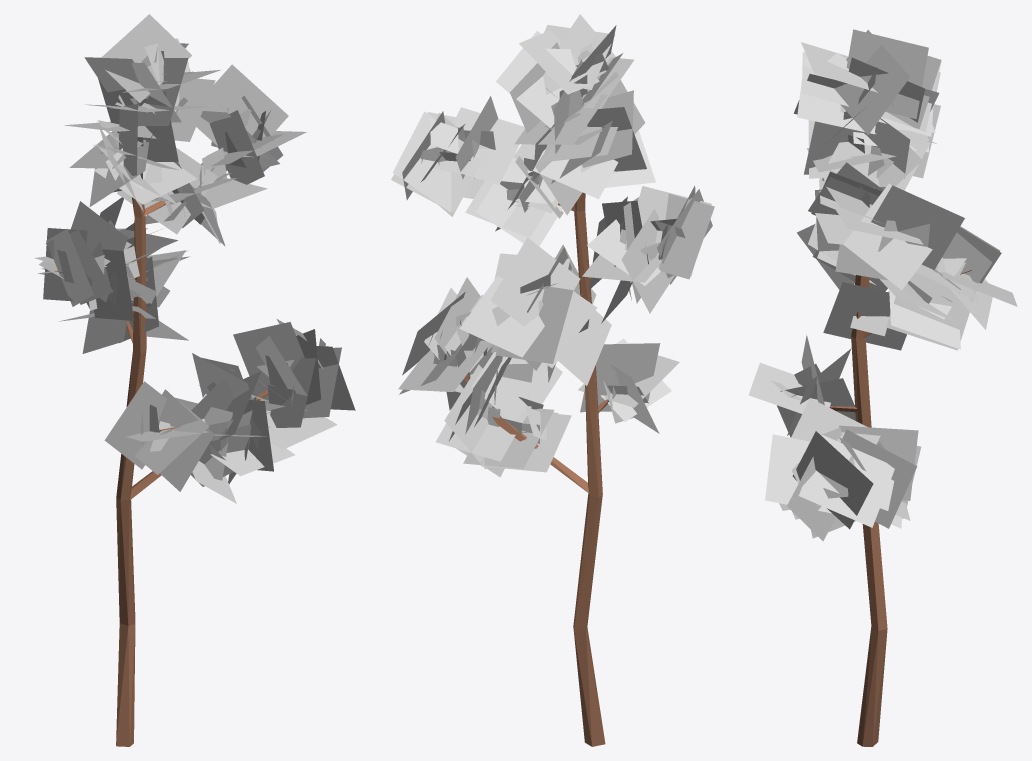
Rendered from bush-stick.glb.
3 views of the same model, side by side, from view 1: azimuth 30°, elevation 25°; view 2: azimuth 150°, elevation 25°; view 3: azimuth 270°, elevation 25° (orthographic). The views are drawn at different scales.
Parts seen in each view (by area): view 1: leavesStick, woodStick; view 2: leavesStick, woodStick; view 3: leavesStick, woodStick.
Part boxes in pixels (x1,y1,x2,y2): leavesStick: (34,14,355,503); woodStick: (55,126,268,746); leavesStick: (391,14,714,477); woodStick: (456,154,608,746); leavesStick: (749,29,1017,541); woodStick: (791,270,971,746).
Bounding box in the file's own units: 1.94 × 4.27 × 1.42.
